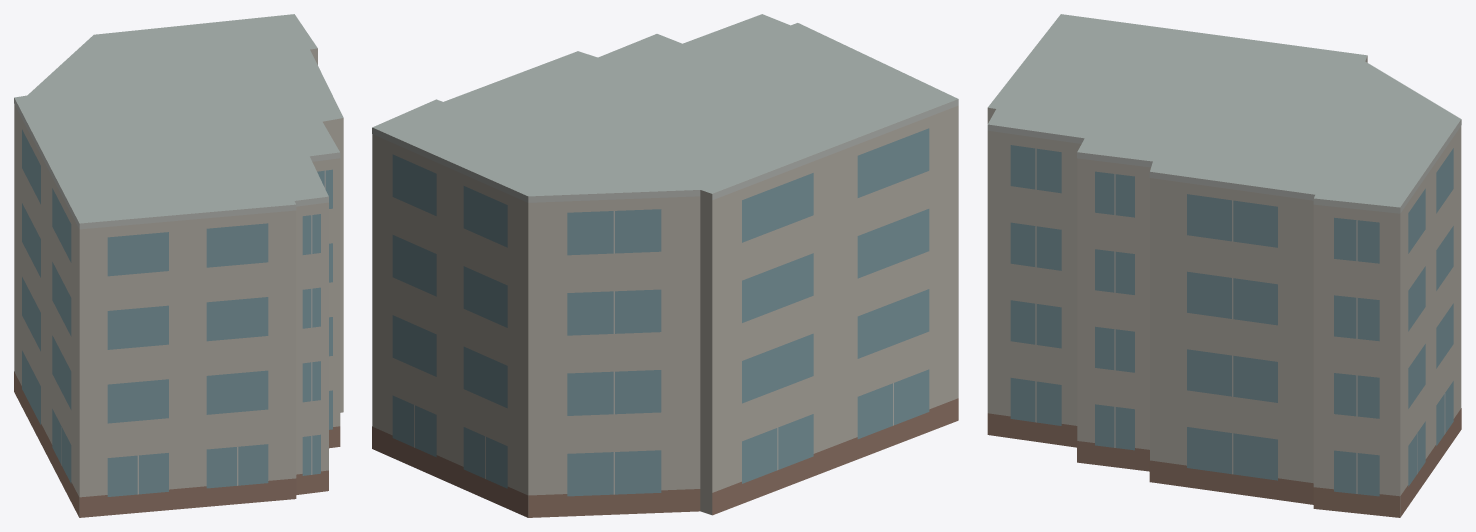
Rendered from survey-upis-32962922.glb.
3 renders of one model, left to right at view 1: azimuth 30°, elevation 25°; view 2: azimuth 150°, elevation 25°; view 3: azimuth 270°, elevation 25°, orthographic. The views are drawn at different scales.
Parts seen in each view (by area): view 1: survey-upis-32962922.tmp; view 2: survey-upis-32962922.tmp; view 3: survey-upis-32962922.tmp.
Boxes of the visible parts, <box> form: survey-upis-32962922.tmp: <box>14,14,343,517</box>; survey-upis-32962922.tmp: <box>372,14,958,517</box>; survey-upis-32962922.tmp: <box>987,14,1461,517</box>.
Size of the model in its own units: 16.32 by 12.2 by 16.89.
